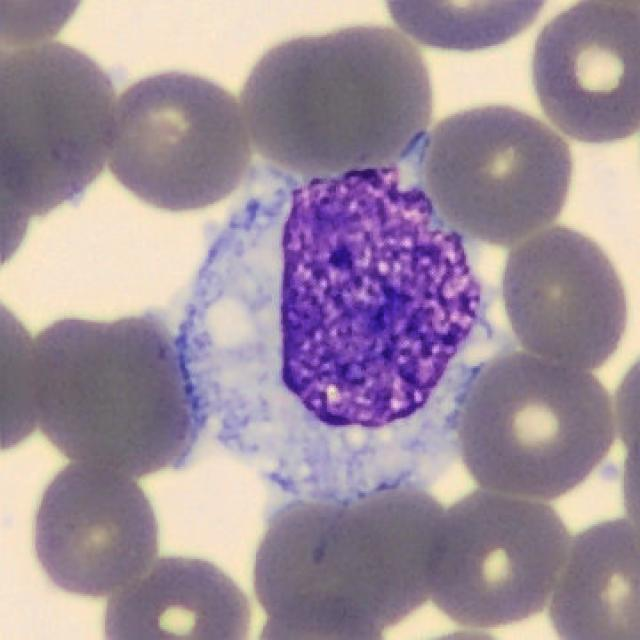Linfocito atipico: (146, 131, 482, 504)
